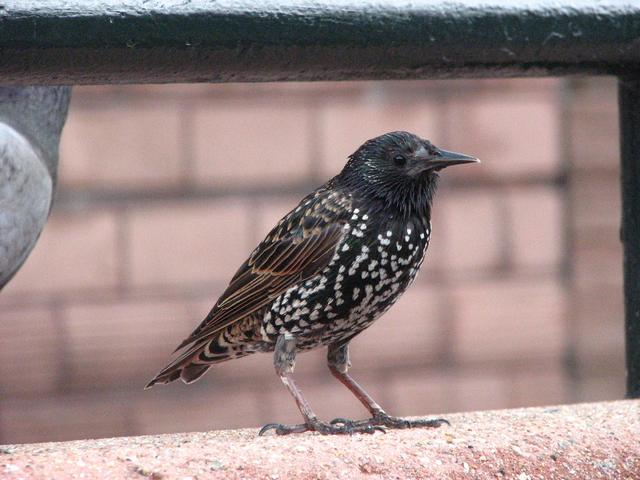bird: (170, 91, 497, 439)
